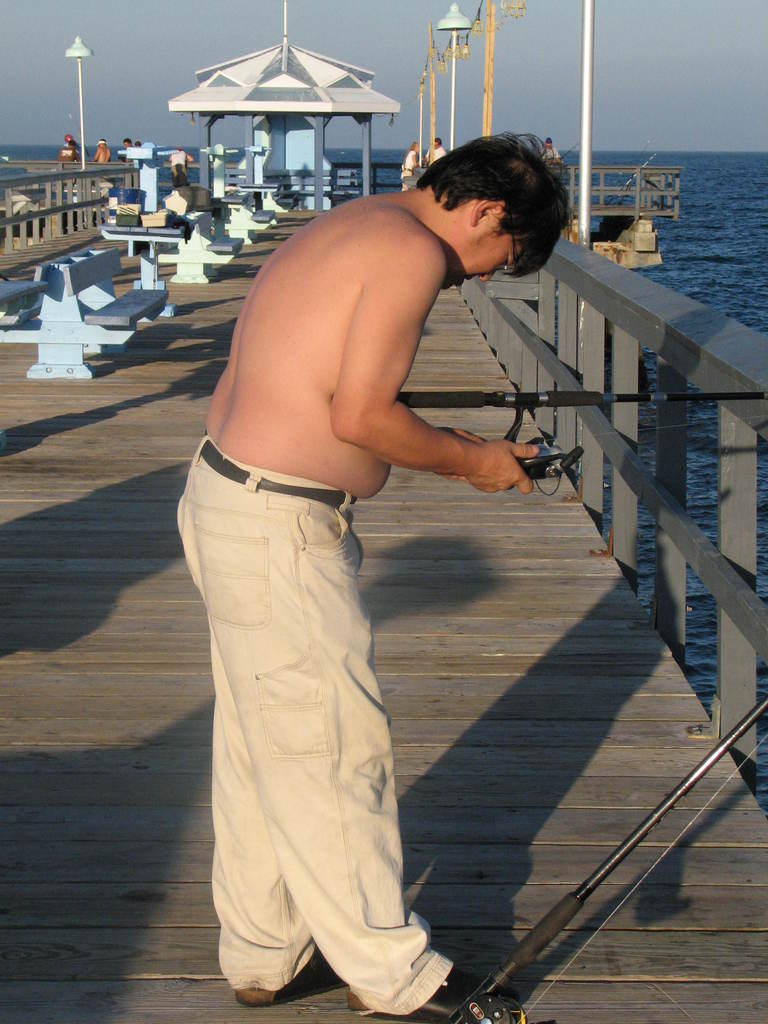Human_hand: (461, 413, 552, 488), (442, 423, 484, 479)
